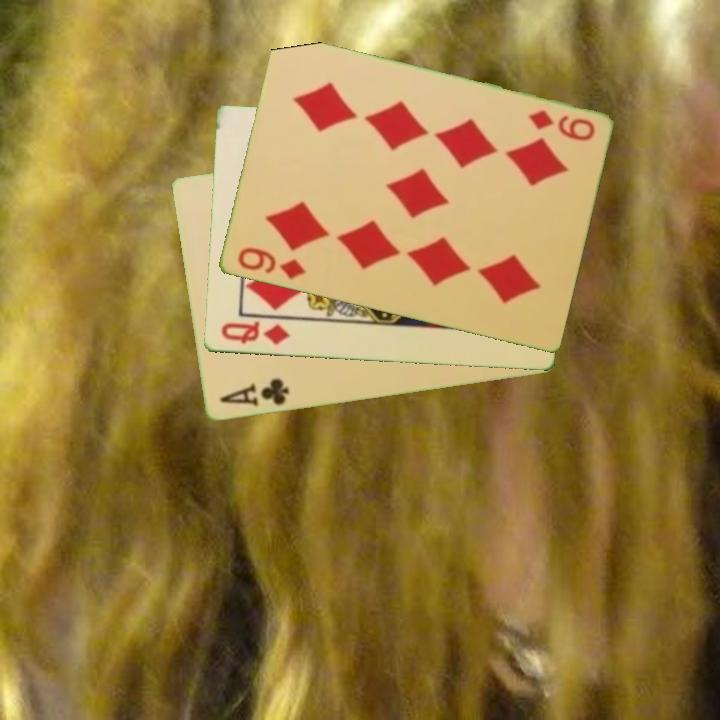9d: (233, 244, 309, 283), (524, 106, 598, 145)
Ac: (216, 375, 291, 410)
Qd: (217, 318, 293, 349)
